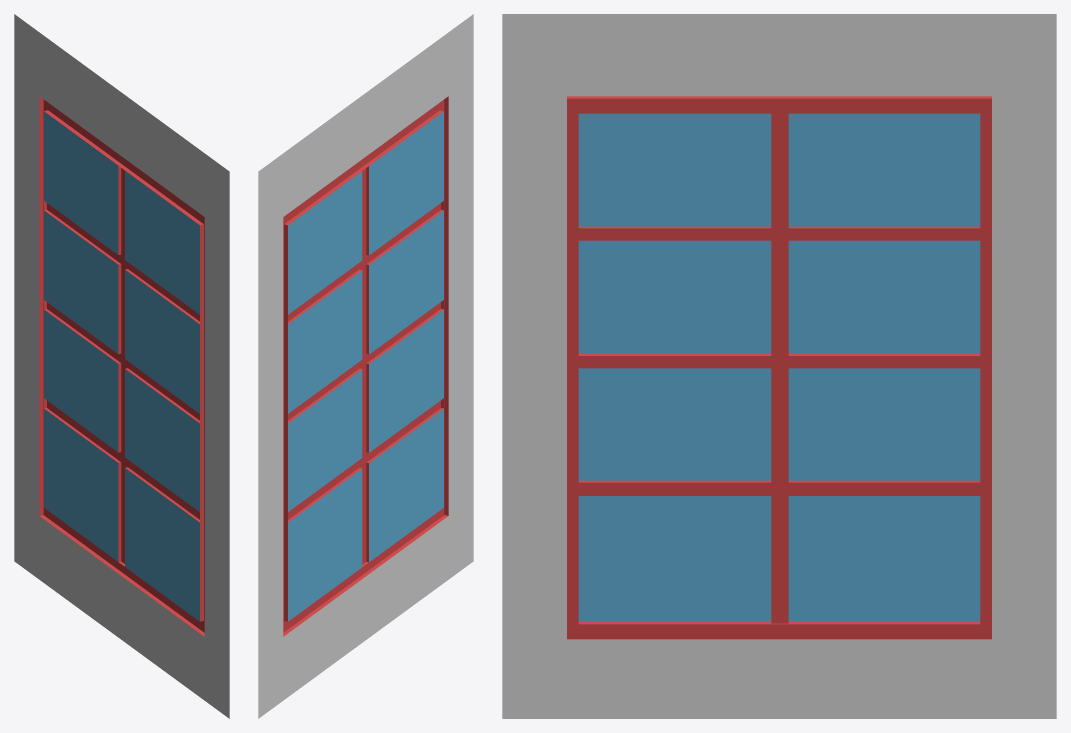
The model's file is FenêtreCarréCarreaux.glb.
3 renders of one model, left to right at view 1: azimuth 30°, elevation 25°; view 2: azimuth 150°, elevation 25°; view 3: azimuth 270°, elevation 25°, orthographic. The views are drawn at different scales.
Visible parts, largest first — view 1: Emplacementfenêtrecarré; view 2: Emplacementfenêtrecarré; view 3: Emplacementfenêtrecarré.
Part boxes in pixels (x1=…): Emplacementfenêtrecarré: x1=14, y1=14, x2=229, y2=718; Emplacementfenêtrecarré: x1=258, y1=14, x2=473, y2=718; Emplacementfenêtrecarré: x1=502, y1=14, x2=1056, y2=718.
Bounding box in the file's own units: 0.0139 × 1.8 × 1.28.
